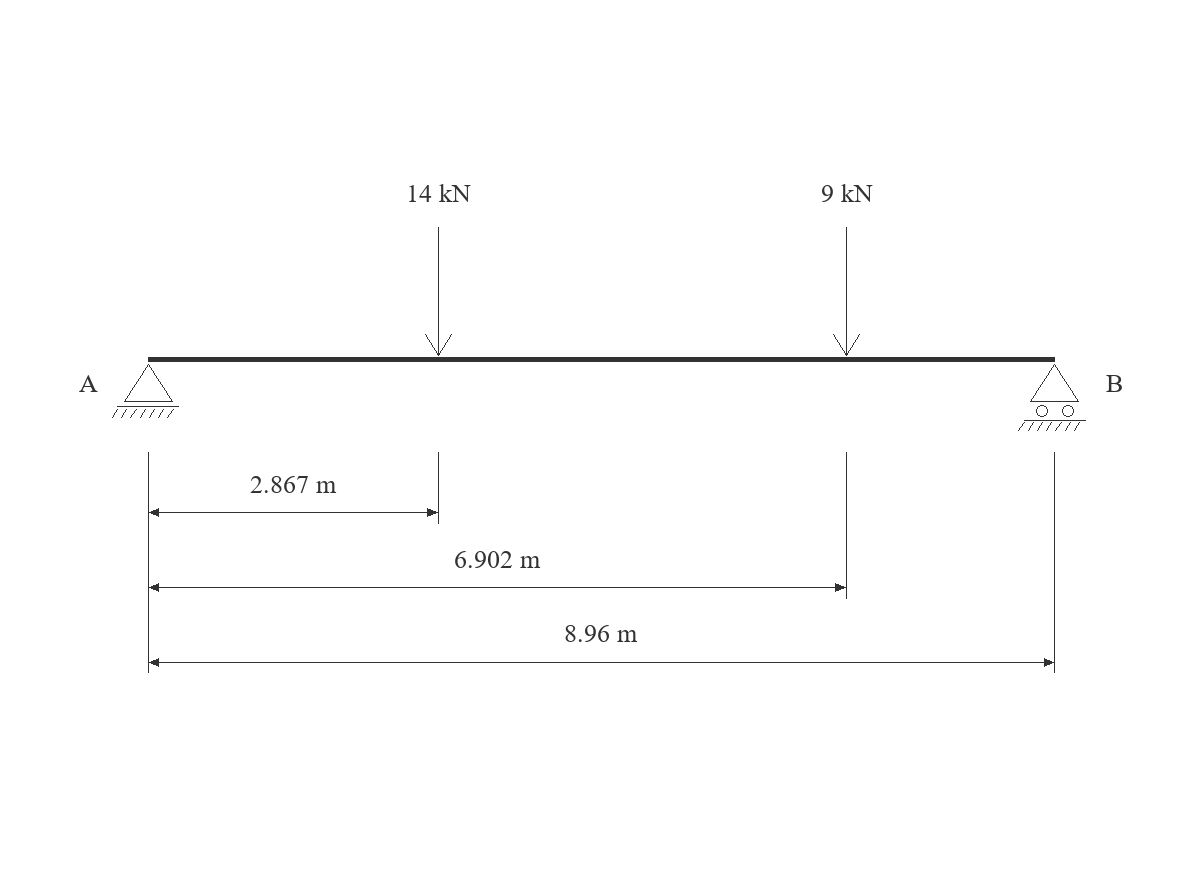pin_support: (112, 364, 179, 418)
point_load: (425, 227, 452, 356), (833, 227, 860, 356)
roller_support: (1018, 364, 1086, 431)
